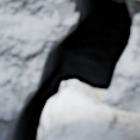brick: (45, 98, 139, 139)
crack: (2, 0, 138, 139)
